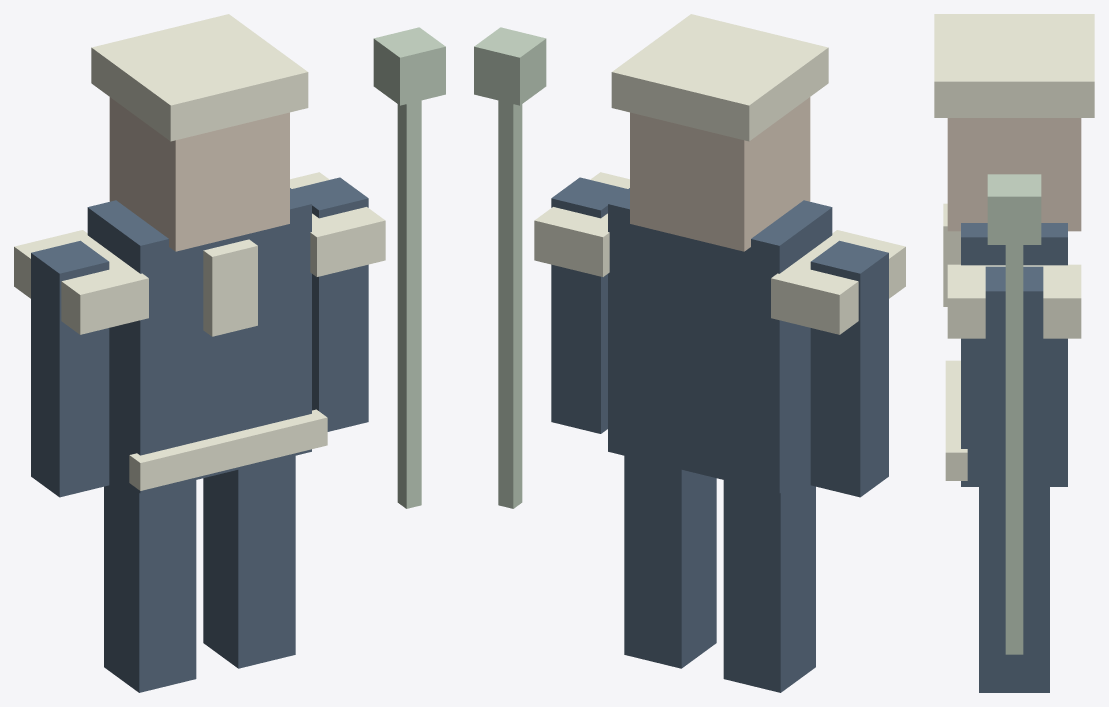
Rendered from 11_zerin_starfall_pilgrim_from_central.glb.
3 renders of one model, left to right at view 1: azimuth 30°, elevation 25°; view 2: azimuth 150°, elevation 25°; view 3: azimuth 270°, elevation 25°, orthographic.
Parts seen in each view (by area): view 1: Zerin Starfall, Pilgrim from Central; view 2: Zerin Starfall, Pilgrim from Central; view 3: Zerin Starfall, Pilgrim from Central.
Boxes of the visible parts, x1,y1,x2,y2 form: Zerin Starfall, Pilgrim from Central: [14, 14, 445, 692]; Zerin Starfall, Pilgrim from Central: [474, 14, 905, 692]; Zerin Starfall, Pilgrim from Central: [934, 14, 1094, 692].
Bounding box in the file's own units: 0.9804 × 1.45 × 0.3477.
